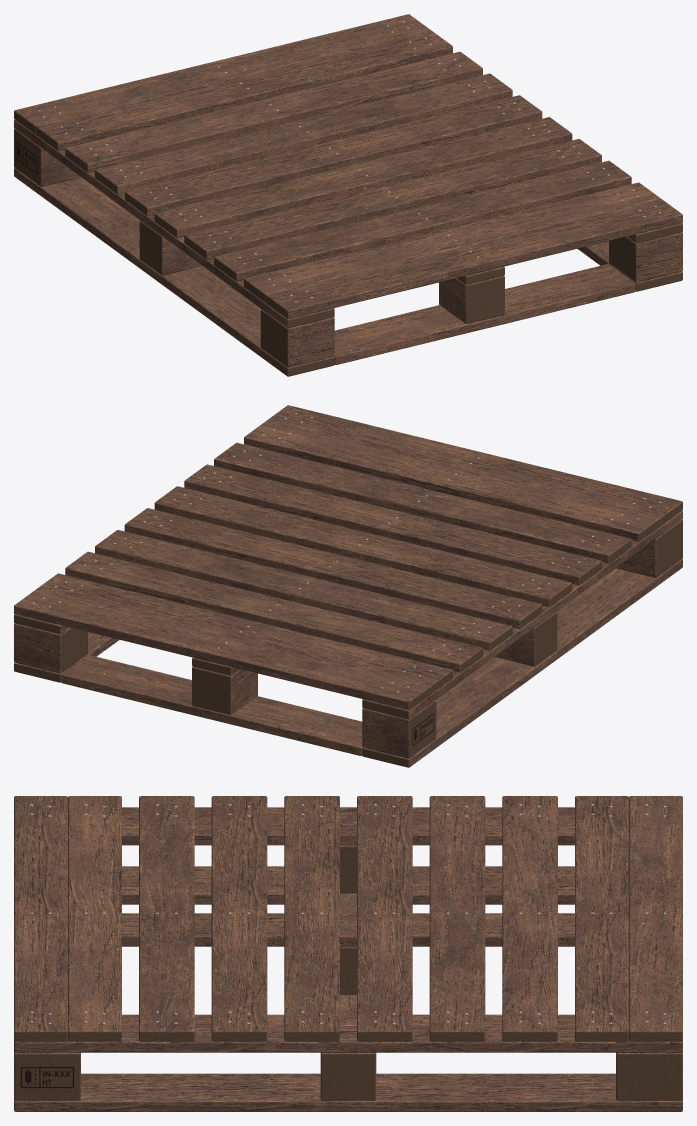
File: hw01-hardwood-pallet-1000x1200.glb
3 renders of one model, top to bottom at view 1: azimuth 30°, elevation 25°; view 2: azimuth 150°, elevation 25°; view 3: azimuth 270°, elevation 25°, orthographic. The views are drawn at different scales.
Visible parts, largest first — view 1: hw01-hardwood-pallet-1000x1200; view 2: hw01-hardwood-pallet-1000x1200; view 3: hw01-hardwood-pallet-1000x1200.
Boxes of the visible parts, x1,y1,x2,y2 form: hw01-hardwood-pallet-1000x1200: (14,14,682,376); hw01-hardwood-pallet-1000x1200: (14,405,682,767); hw01-hardwood-pallet-1000x1200: (14,796,682,1111).
Size of the model in its own units: 1 by 0.1619 by 1.2.
4 materials, 3 textured.
